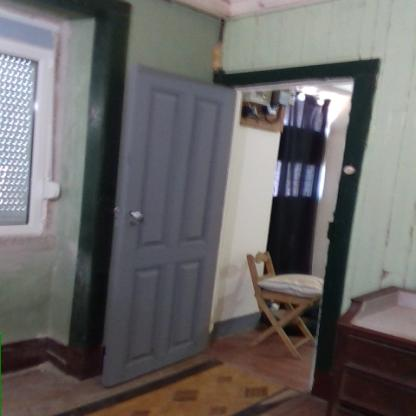open: (105, 60, 382, 392)
